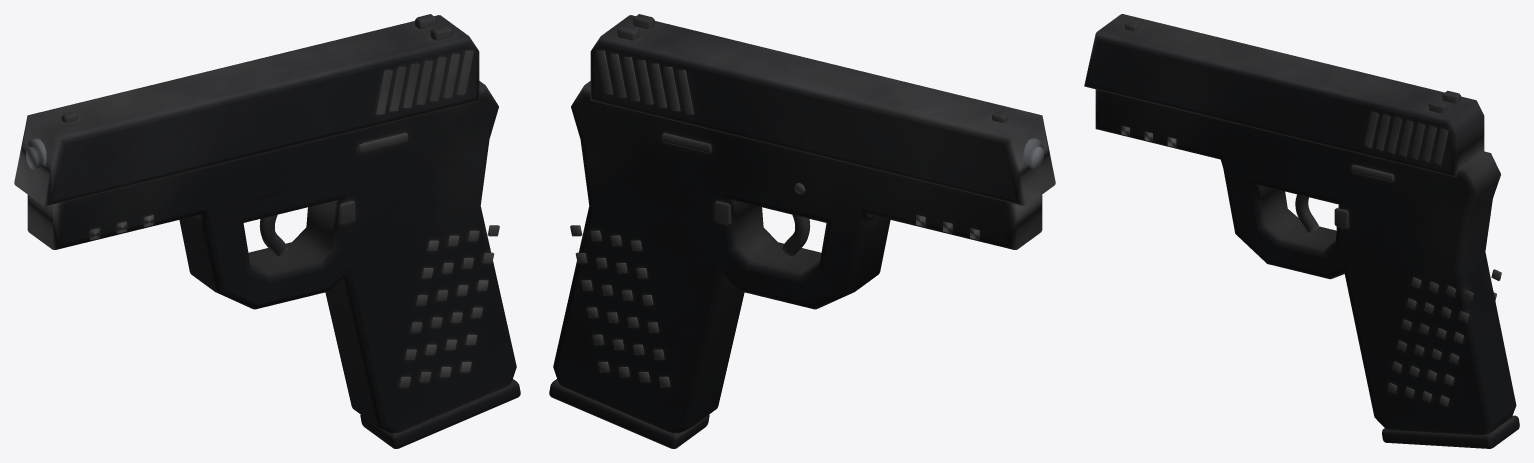
Rendered from pistolet.glb.
3 views of the same model, side by side, from view 1: azimuth 30°, elevation 25°; view 2: azimuth 150°, elevation 25°; view 3: azimuth 330°, elevation 25° (orthographic). The views are drawn at different scales.
Visible parts, largest first — view 1: Pistolet; view 2: Pistolet; view 3: Pistolet.
Boxes of the visible parts, left/top/right/bottom form: Pistolet: left=14, top=14, right=520, bottom=448; Pistolet: left=549, top=14, right=1055, bottom=448; Pistolet: left=1084, top=14, right=1519, bottom=448.
Bounding box in the file's own units: 0.2119 × 0.1711 × 0.0285.
1 material, 1 textured.
